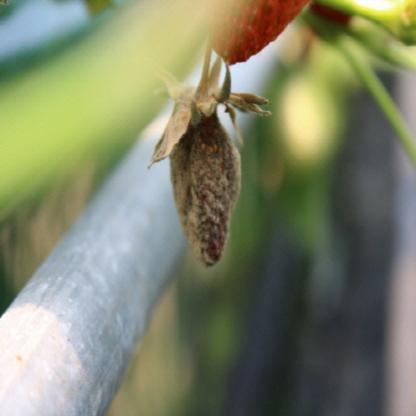Strawberry_Gray_Mold: (147, 56, 273, 270)
